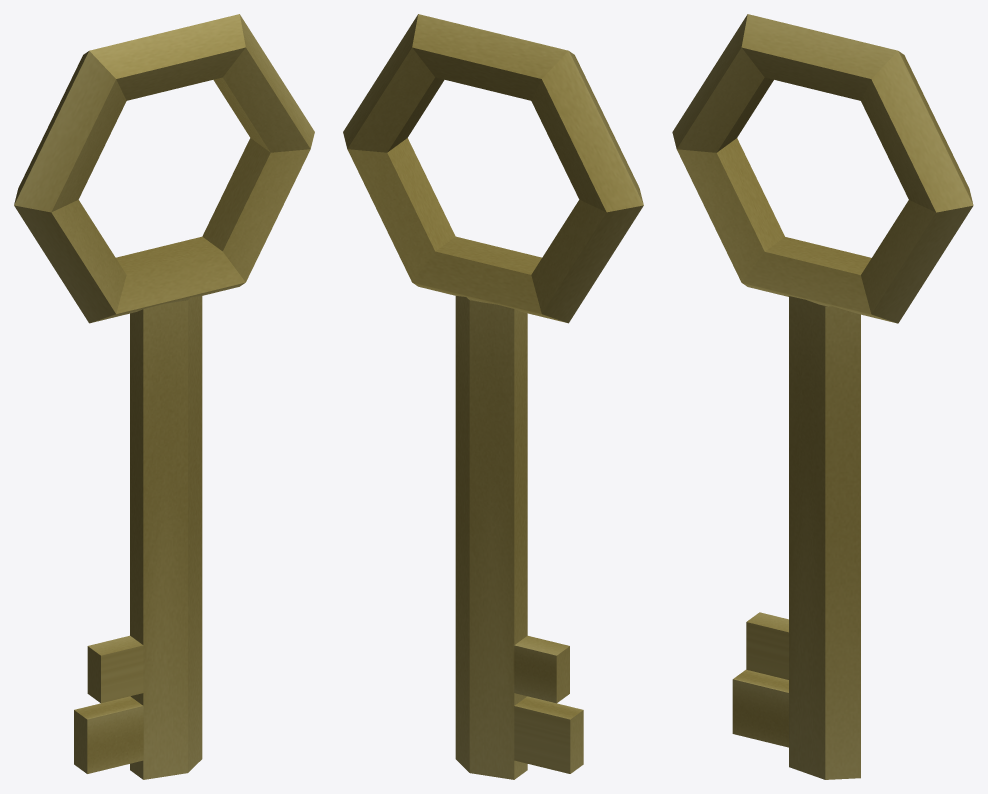
Rendered from low-poly-key.obj.
3 views of the same model, side by side, from view 1: azimuth 30°, elevation 25°; view 2: azimuth 150°, elevation 25°; view 3: azimuth 330°, elevation 25° (orthographic).
Parts seen in each view (by area): view 1: Torus_1; view 2: Torus_1; view 3: Torus_1.
Part boxes in pixels (x1,y1,x2,y2): Torus_1: [14, 14, 314, 779]; Torus_1: [343, 14, 643, 779]; Torus_1: [672, 14, 973, 779].
Size of the model in its own units: 280 by 654 by 53.26.
1 material, 1 textured.
